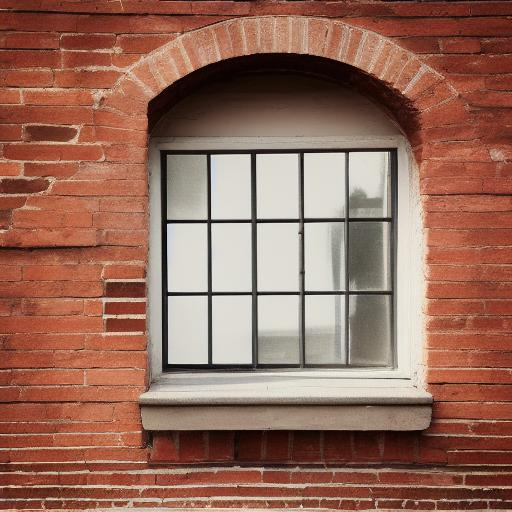Window: (95, 16, 484, 447)
